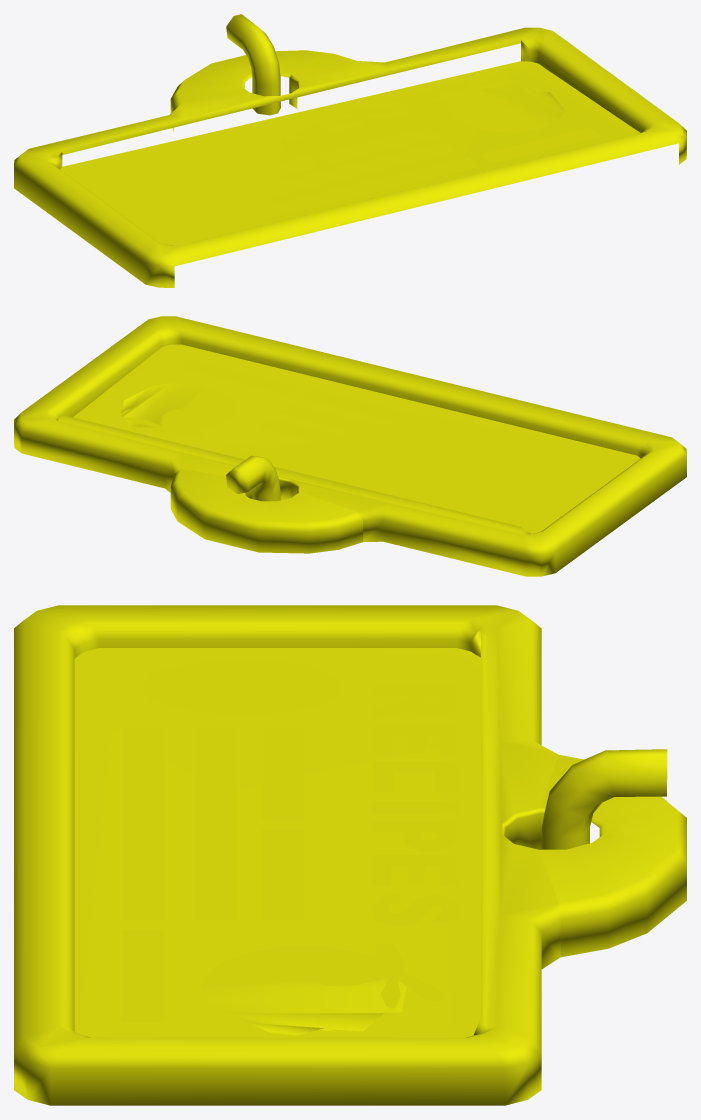
The picture shows the model from 3 angles, top to bottom: view 1: azimuth 30°, elevation 25°; view 2: azimuth 150°, elevation 25°; view 3: azimuth 270°, elevation 25°; orthographic projection. The views are drawn at different scales.
Parts seen in each view (by area): view 1: wall_recipes; view 2: wall_recipes; view 3: wall_recipes.
Boxes of the visible parts, bbox=[...] form: wall_recipes: bbox=[14, 14, 686, 287]; wall_recipes: bbox=[14, 316, 686, 576]; wall_recipes: bbox=[14, 605, 686, 1105].
Size of the model in its own units: 0.00986 by 0.00127 by 0.00615.
Materials: 1 (1 with a texture image).
